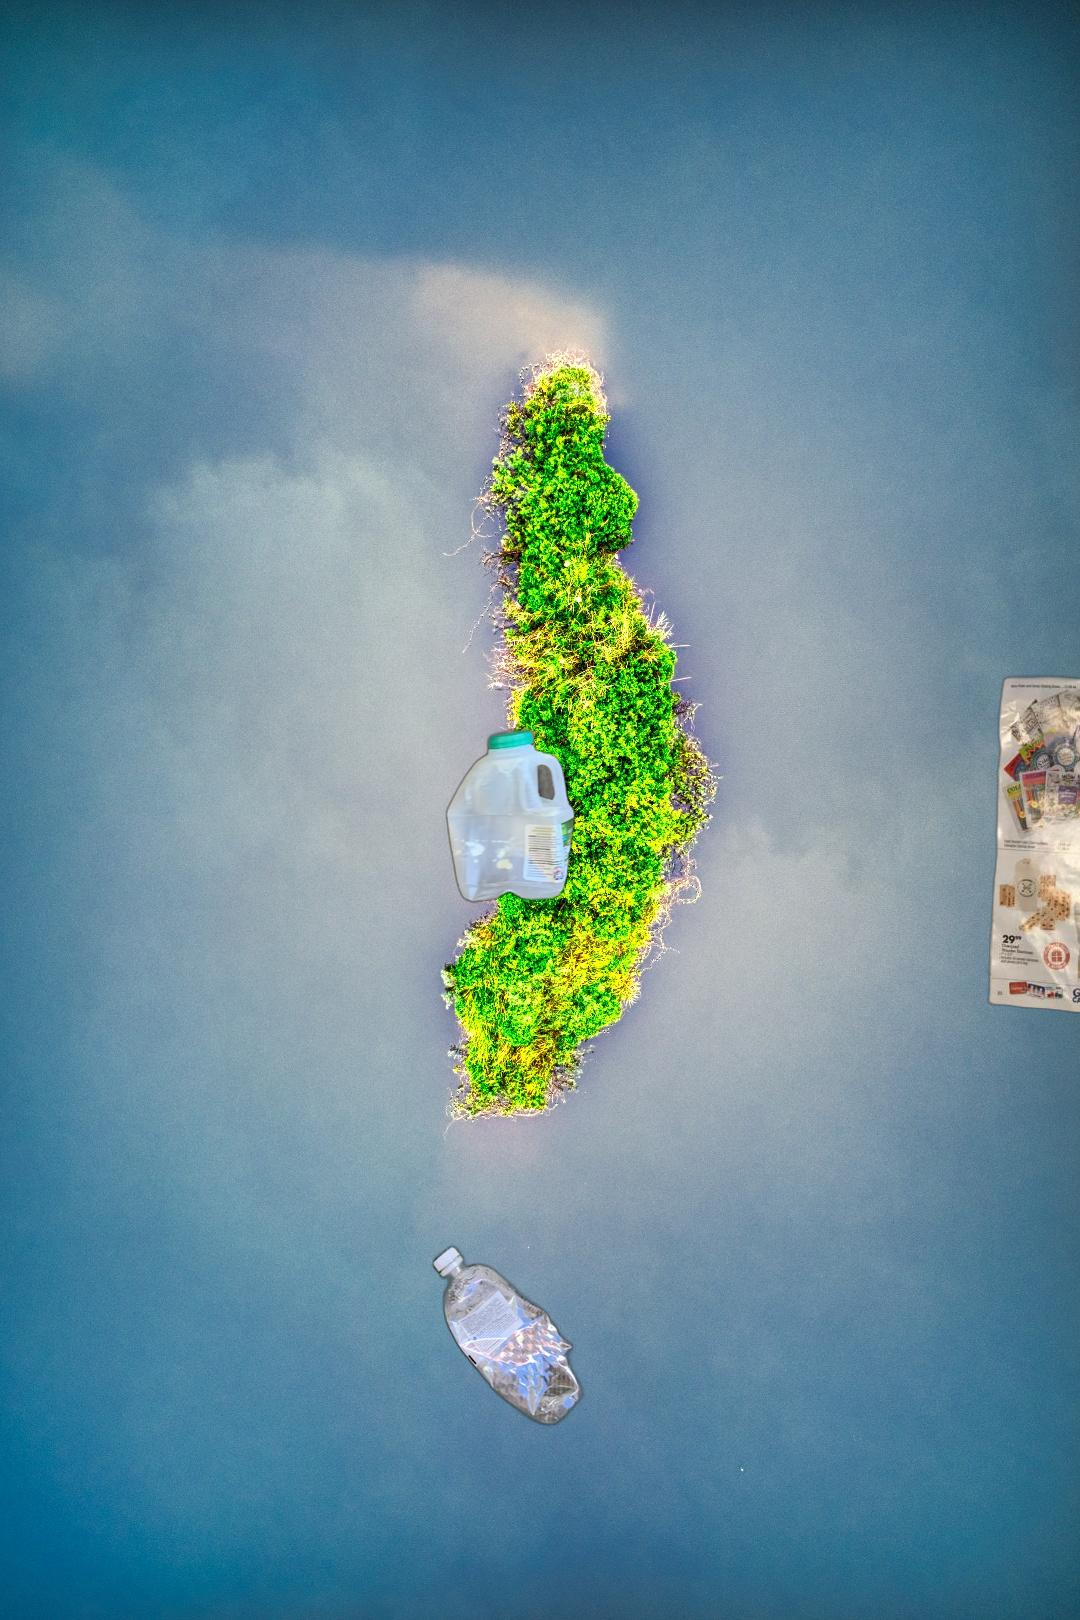biological: (996, 851, 1080, 1008)
paper: (984, 673, 1080, 1041)
plastic-bottles: (428, 1240, 587, 1431), (442, 723, 579, 908)
